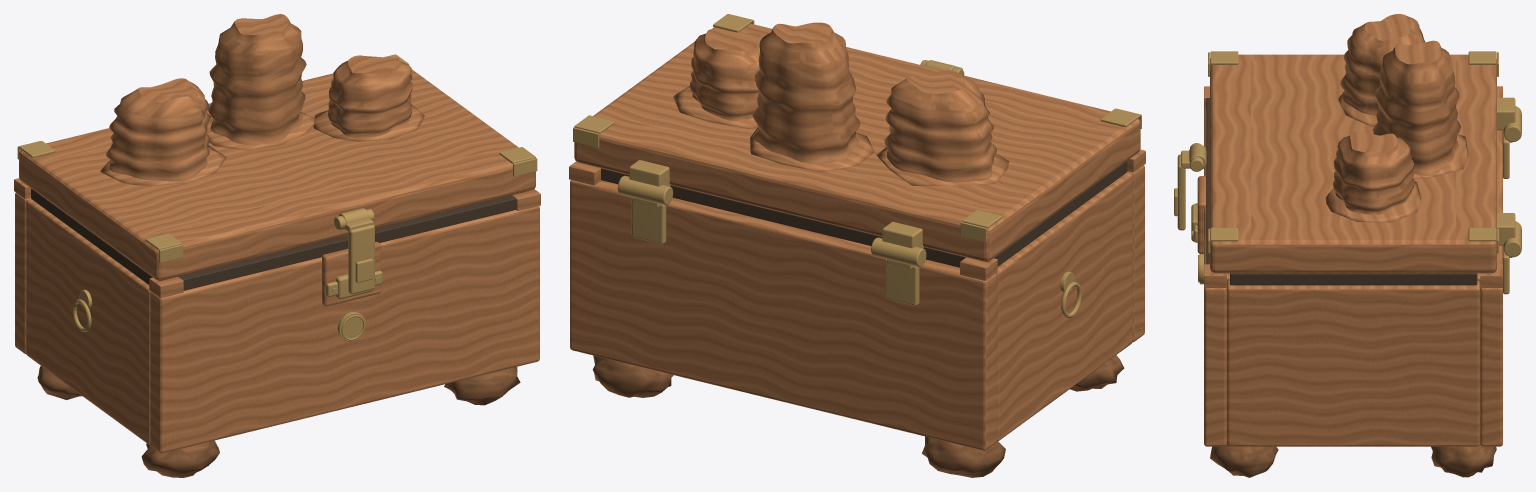
File: saudi-arabia.glb
The picture shows the model from 3 angles, left to right: view 1: azimuth 30°, elevation 25°; view 2: azimuth 150°, elevation 25°; view 3: azimuth 270°, elevation 25°; orthographic projection. The views are drawn at different scales.
Parts seen in each view (by area): view 1: Sandstone / wall, Lid / polished slab, Sandstone / end wall, AlUla / outcrop 1, AlUla / outcrop 0, AlUla / outcrop 2, Bronze seam / long, Sandstone foot, Sandstone / wall.001, Sandstone foot.002, Latch / lifting hasp, Sandstone / clasp seat (+7 smaller); view 2: Sandstone / wall.001, Lid / polished slab, Sandstone / end wall, AlUla / outcrop 1, AlUla / outcrop 0, AlUla / outcrop 2, Bronze seam / long.001, Sandstone foot.001, Sandstone / wall, Sandstone foot.003, Bronze seam / side, AlUla / sand apron 1 (+10 smaller); view 3: Lid / polished slab, Sandstone / end wall.001, AlUla / outcrop 1, AlUla / outcrop 2, AlUla / outcrop 0, Sandstone / wall.001, Sandstone / wall, Bronze seam / side.001, Sandstone foot.002, Sandstone foot.003, AlUla / sand apron 2, AlUla / sand apron 1 (+14 smaller).
Part boxes in pixels (x1,y1,x2,y2): Sandstone / wall: (150, 206, 539, 453); Lid / polished slab: (19, 69, 535, 280); Sandstone / end wall: (26, 199, 150, 444); AlUla / outcrop 1: (207, 14, 306, 144); AlUla / outcrop 0: (106, 78, 210, 181); AlUla / outcrop 2: (328, 55, 412, 137); Bronze seam / long: (178, 195, 516, 290); Sandstone foot: (141, 440, 219, 477); Sandstone / wall.001: (15, 192, 31, 353); Sandstone foot.002: (444, 367, 520, 405); Latch / lifting hasp: (348, 225, 374, 294); Sandstone / clasp seat: (322, 242, 381, 306); Sandstone / wall.001: (570, 180, 996, 450); Lid / polished slab: (574, 23, 1140, 261); Sandstone / end wall: (996, 172, 1132, 441); AlUla / outcrop 1: (752, 22, 860, 164); AlUla / outcrop 0: (884, 69, 996, 182); AlUla / outcrop 2: (690, 29, 762, 121); Bronze seam / long.001: (601, 168, 965, 267); Sandstone foot.001: (922, 436, 1005, 477); Sandstone / wall: (1127, 165, 1144, 342); Sandstone foot.003: (592, 355, 673, 397); Bronze seam / side: (994, 161, 1127, 266); AlUla / sand apron 1: (750, 127, 874, 172); Lid / polished slab: (1210, 54, 1496, 273); Sandstone / end wall.001: (1227, 280, 1480, 446); AlUla / outcrop 1: (1373, 40, 1460, 175); AlUla / outcrop 2: (1333, 131, 1414, 214); AlUla / outcrop 0: (1340, 14, 1424, 115); Sandstone / wall.001: (1480, 130, 1502, 446); Sandstone / wall: (1204, 110, 1226, 446); Bronze seam / side.001: (1230, 273, 1477, 285); Sandstone foot.002: (1210, 445, 1278, 477); Sandstone foot.003: (1431, 445, 1496, 477); AlUla / sand apron 2: (1325, 181, 1421, 222); AlUla / sand apron 1: (1413, 134, 1468, 178).
Bounding box in the file's own units: 3.79 × 3.24 × 2.88.
4 materials, 2 textured.
